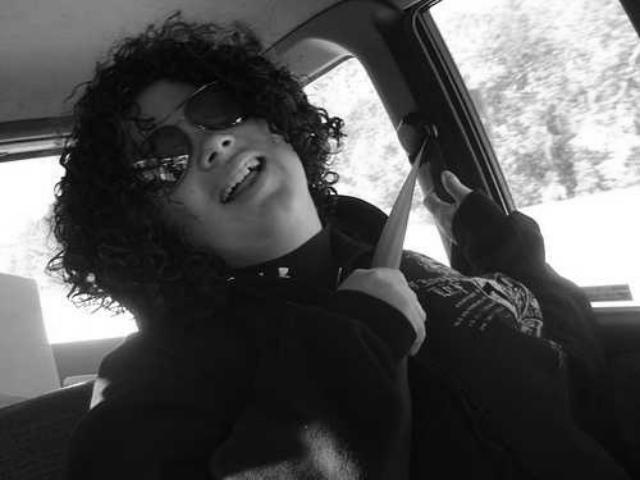Seatbelt: (365, 112, 435, 270)
